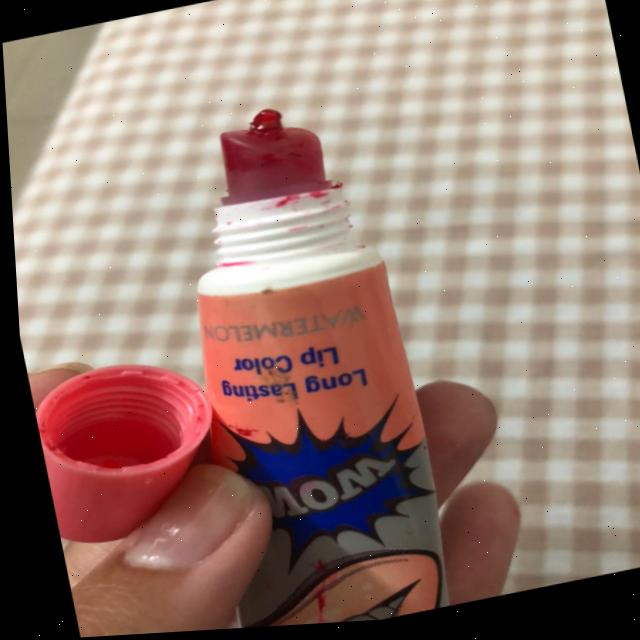lip balm: (108, 69, 461, 635)
